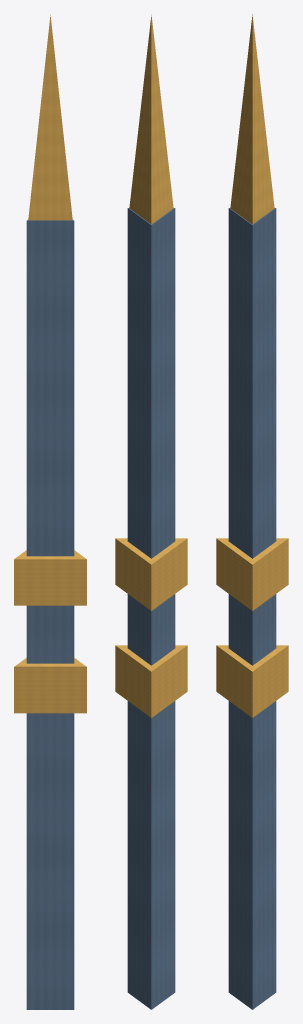
Rendered from atlas100-s051-a05.lod2.glb.
3 views of the same model, side by side, from view 1: azimuth 90°, elevation 25°; view 2: azimuth 150°, elevation 25°; view 3: azimuth 270°, elevation 25° (orthographic).
Visible parts, largest first — view 1: atlas100-s051-a05:part-000, atlas100-s051-a05:part-004, atlas100-s051-a05:part-002, atlas100-s051-a05:part-003; view 2: atlas100-s051-a05:part-000, atlas100-s051-a05:part-004, atlas100-s051-a05:part-002, atlas100-s051-a05:part-003; view 3: atlas100-s051-a05:part-000, atlas100-s051-a05:part-004, atlas100-s051-a05:part-002, atlas100-s051-a05:part-003.
Part boxes in pixels (x1,y1,x2,y2): atlas100-s051-a05:part-000: (26, 220, 74, 1009); atlas100-s051-a05:part-004: (28, 14, 72, 220); atlas100-s051-a05:part-002: (14, 658, 86, 713); atlas100-s051-a05:part-003: (14, 550, 86, 605); atlas100-s051-a05:part-000: (127, 208, 175, 1009); atlas100-s051-a05:part-004: (129, 14, 173, 224); atlas100-s051-a05:part-002: (115, 645, 187, 717); atlas100-s051-a05:part-003: (115, 538, 187, 610); atlas100-s051-a05:part-000: (228, 208, 276, 1009); atlas100-s051-a05:part-004: (230, 14, 274, 224); atlas100-s051-a05:part-002: (216, 645, 288, 717); atlas100-s051-a05:part-003: (216, 538, 288, 610).
Size of the model in its own units: 0.0868 by 1.51 by 0.1002.
Materials: 2 (2 with a texture image).
